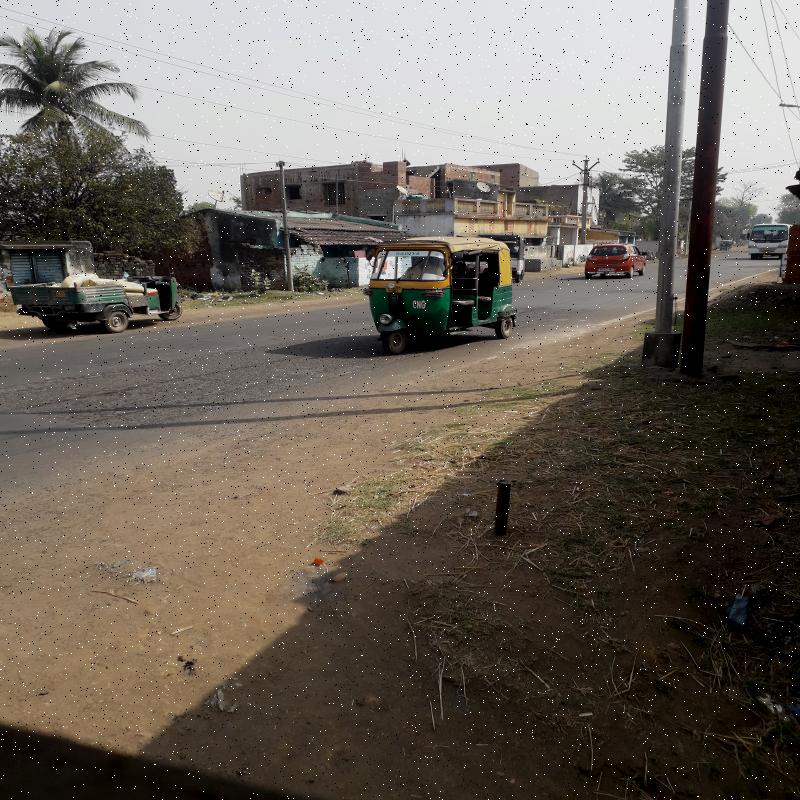auto: (369, 238, 528, 345)
